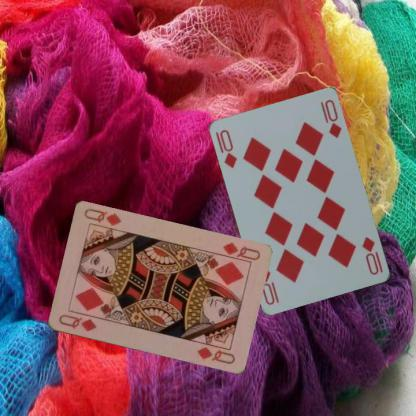10d: (213, 127, 239, 170), (359, 234, 385, 276)
Qd: (215, 240, 261, 264), (56, 312, 98, 333)
